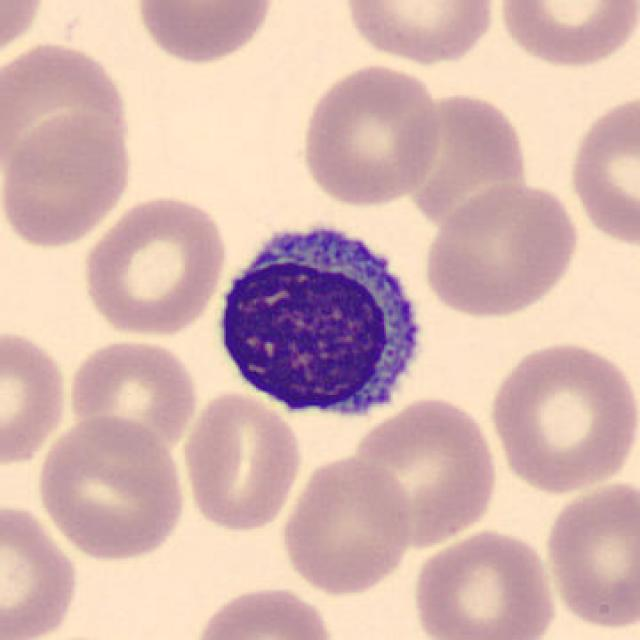Lymphocyte: (204, 208, 434, 430)
RBC: (486, 337, 638, 495), (346, 393, 499, 548), (32, 413, 188, 564), (420, 178, 583, 321), (78, 190, 231, 338), (297, 60, 444, 208), (383, 93, 533, 236), (277, 453, 416, 598), (0, 37, 137, 183), (0, 110, 137, 250), (178, 388, 304, 534), (409, 525, 560, 640), (64, 335, 201, 453), (540, 476, 638, 633), (564, 90, 638, 252), (0, 497, 82, 640), (339, 0, 502, 67), (0, 324, 73, 472), (492, 0, 638, 71), (132, 0, 279, 67), (188, 582, 339, 640), (0, 0, 50, 67)
